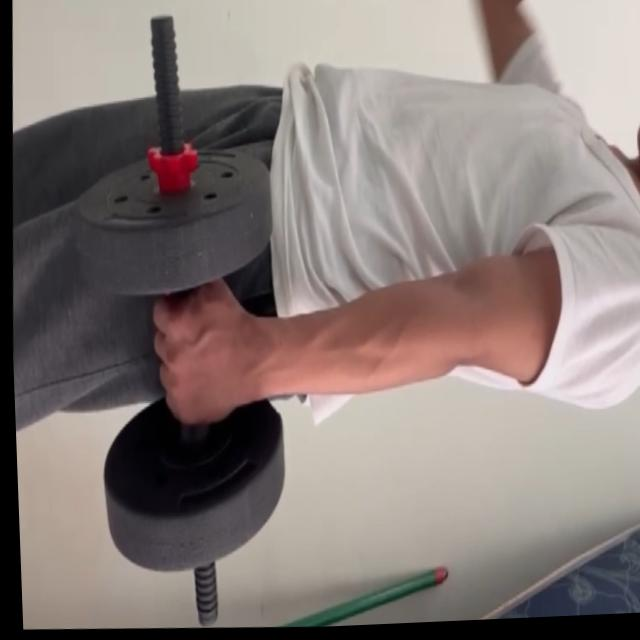hammer: (59, 136, 302, 585)
